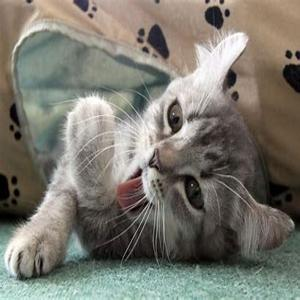cat: (59, 54, 279, 253)
